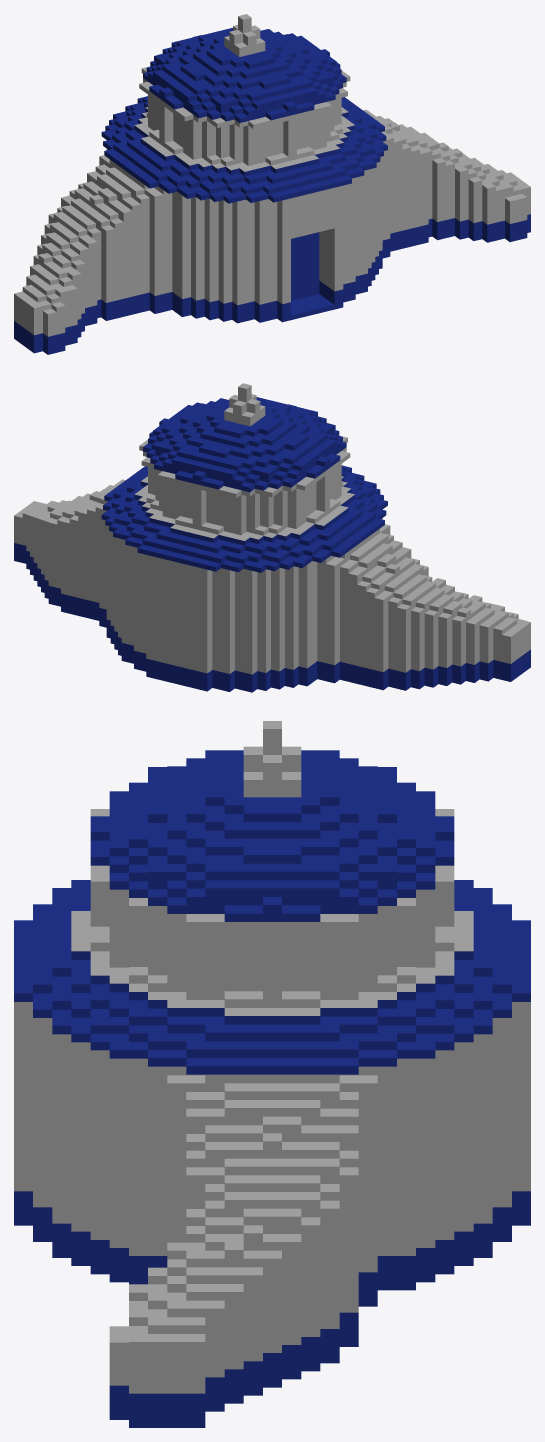
Rendered from Тенежоры.fbx.
3 views of the same model, one above another, from view 1: azimuth 30°, elevation 25°; view 2: azimuth 150°, elevation 25°; view 3: azimuth 270°, elevation 25° (orthographic). The views are drawn at different scales.
Parts seen in each view (by area): view 1: Cylinder; view 2: Cylinder; view 3: Cylinder.
Part boxes in pixels (box(x1,y1,x2,y2)): Cylinder: box(14, 14, 530, 354); Cylinder: box(14, 383, 530, 692); Cylinder: box(14, 721, 530, 1427).
Size of the model in its own units: 552 by 263 by 261.
